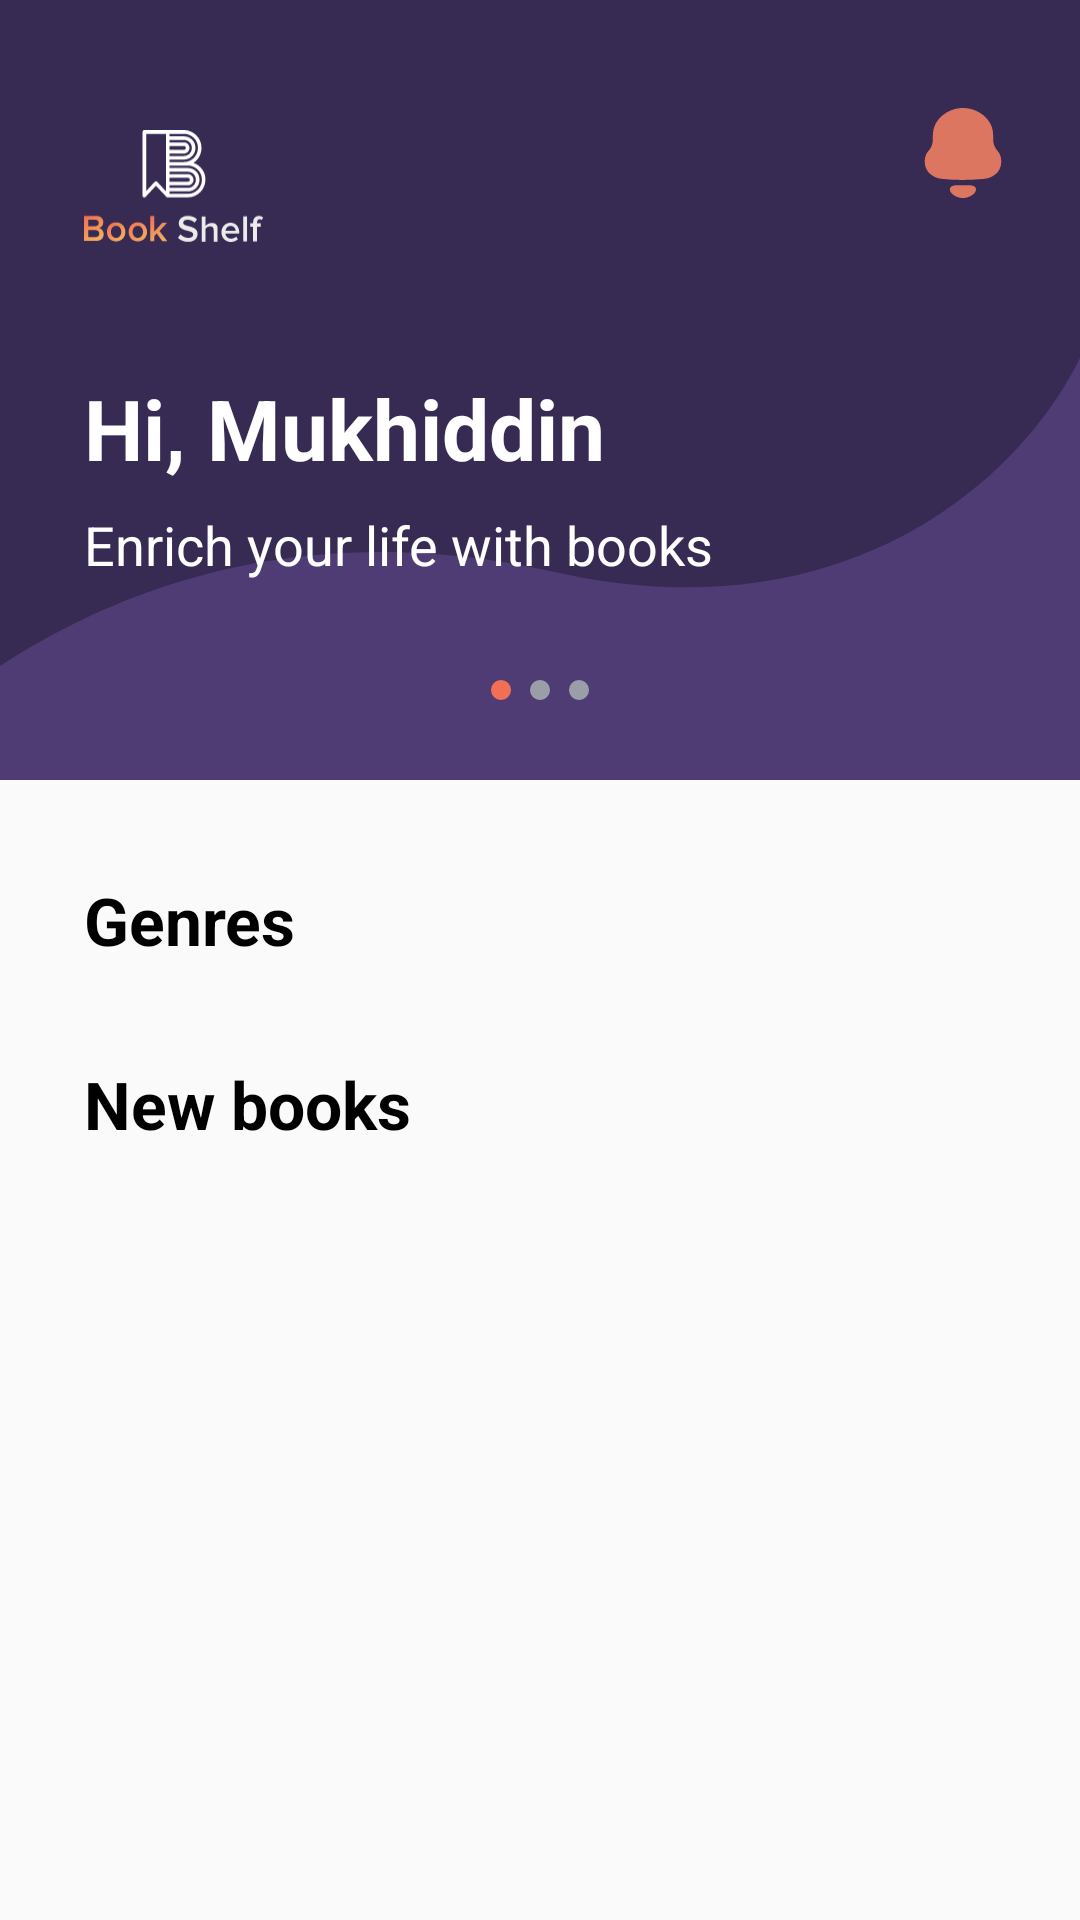

Named icons in this screenshot (1080px x 1920px) and their centers, [x,y]:
notification: [963,153]
